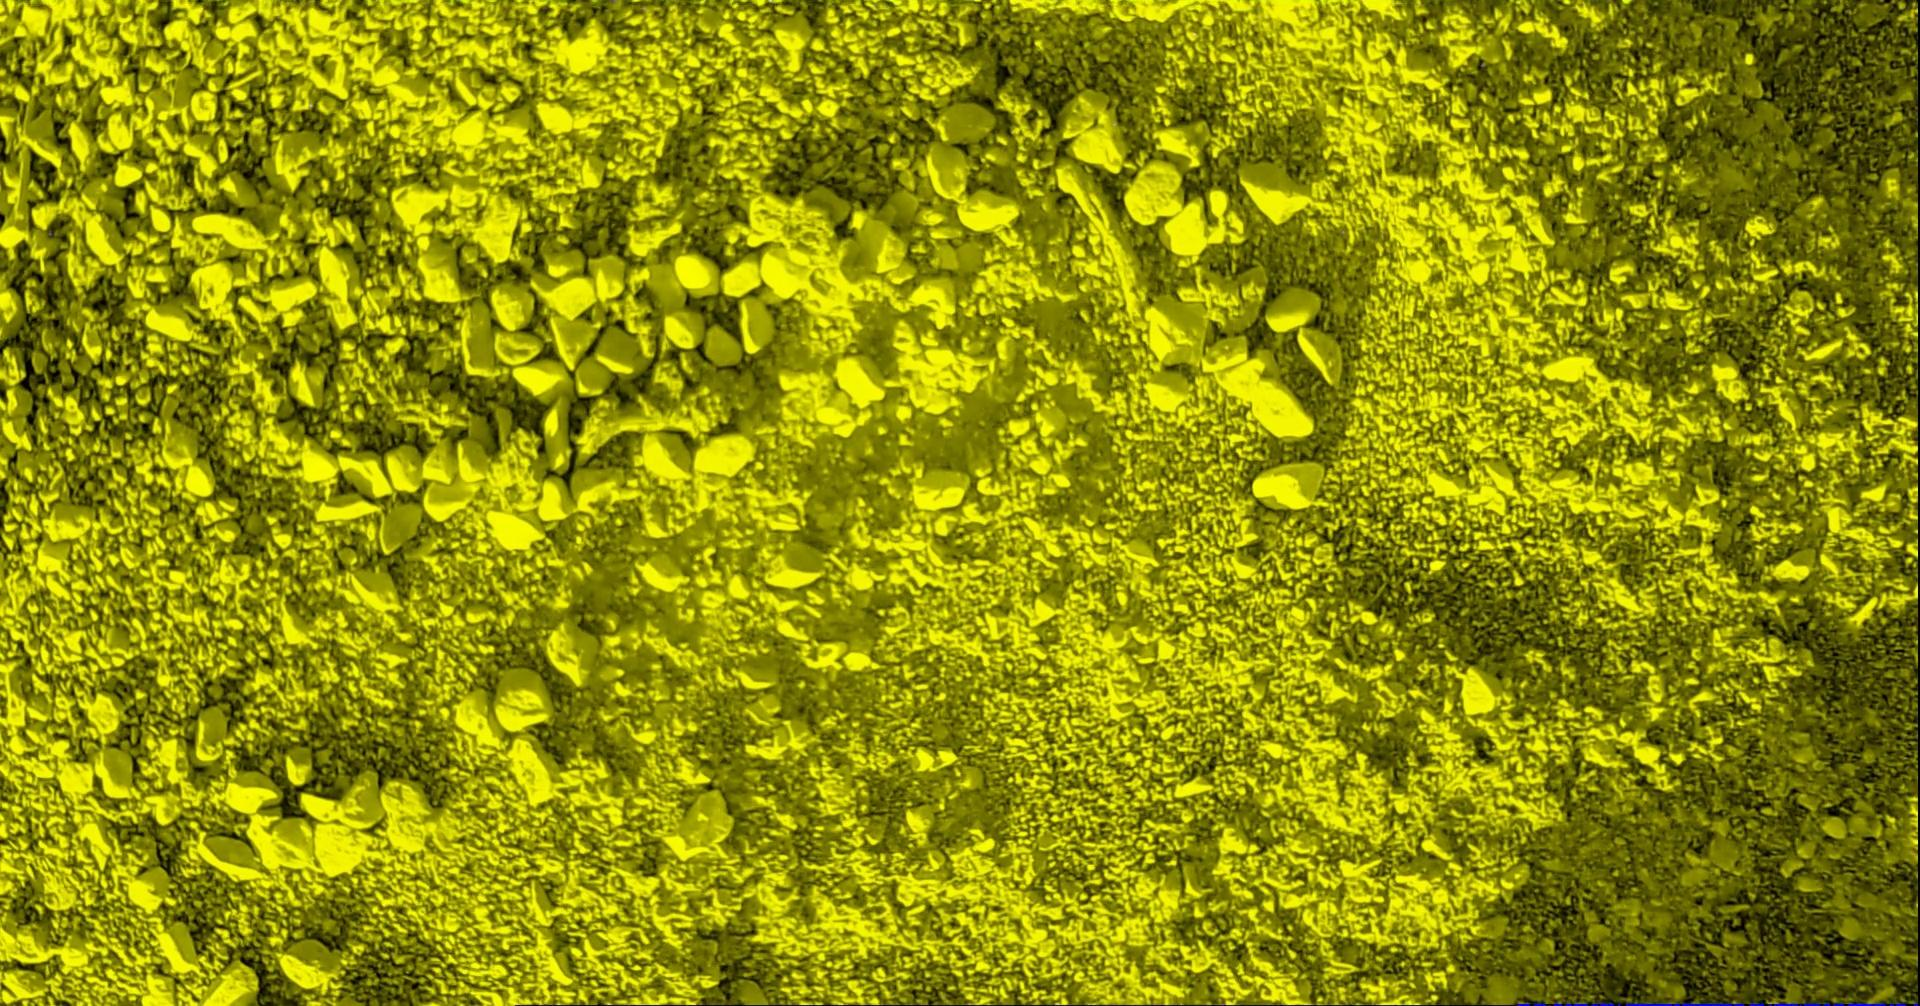ant: (1552, 1002, 1906, 1005)
